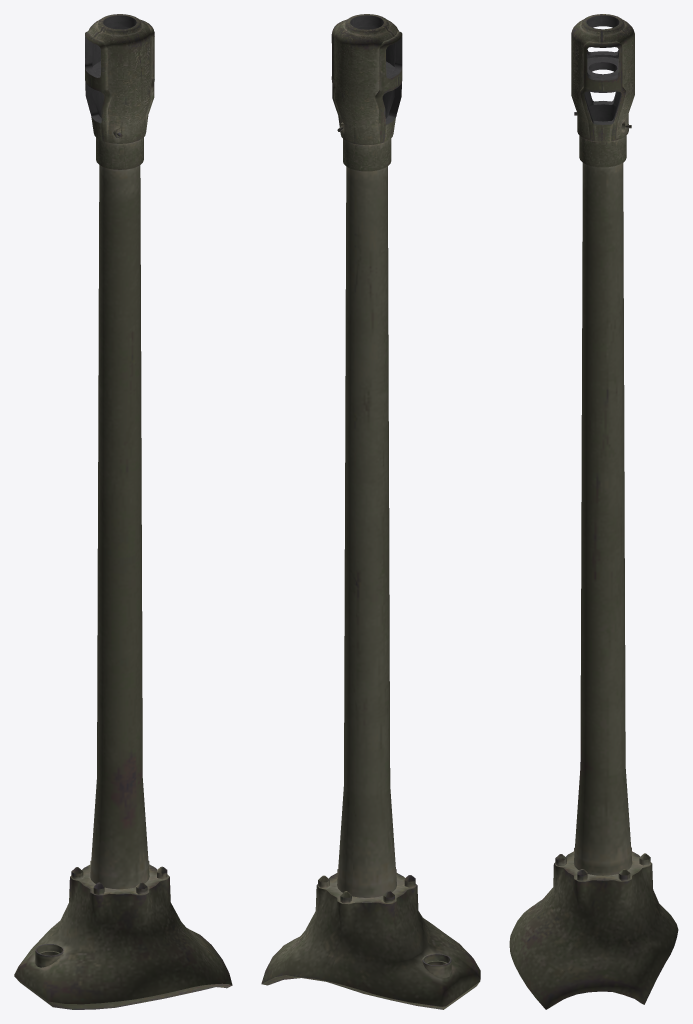
Rendered from Gun_01.glb.
3 views of the same model, side by side, from view 1: azimuth 30°, elevation 25°; view 2: azimuth 150°, elevation 25°; view 3: azimuth 270°, elevation 25° (orthographic). The views are drawn at different scales.
Parts seen in each view (by area): view 1: set_0_group_0; view 2: set_0_group_0; view 3: set_0_group_0.
Part boxes in pixels (box(x1,y1,x2,y2)): set_0_group_0: box(14, 14, 232, 1009); set_0_group_0: box(261, 14, 480, 1009); set_0_group_0: box(509, 14, 678, 1009).
Bounding box in the file's own units: 0.8435 × 4.43 × 0.7139.
1 material, 1 textured.
